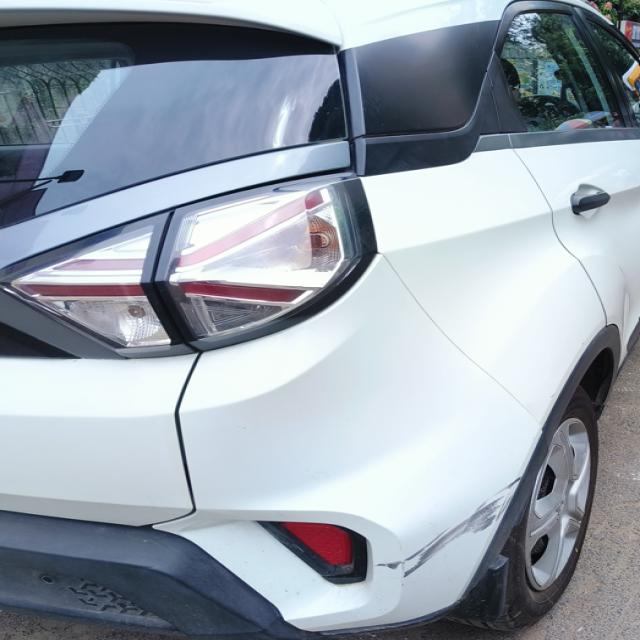scratch: (370, 478, 551, 586)
